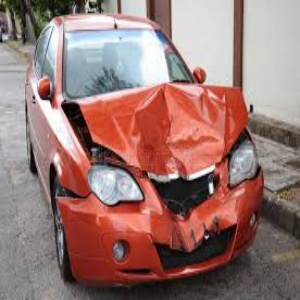bonnet: (94, 88, 246, 161)
bumper: (58, 198, 248, 246)
